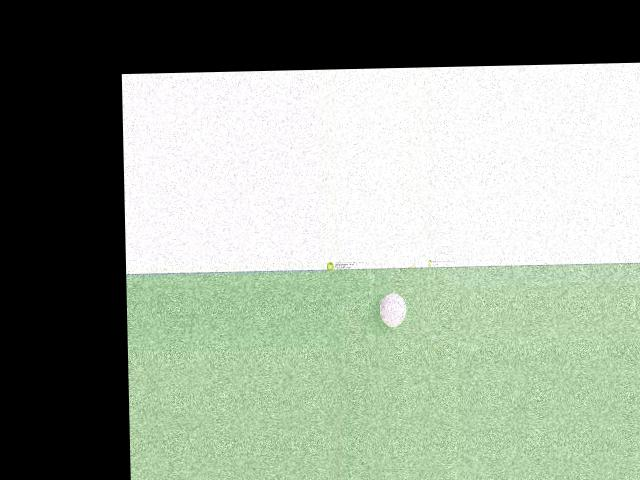egg: (379, 292, 406, 327)
